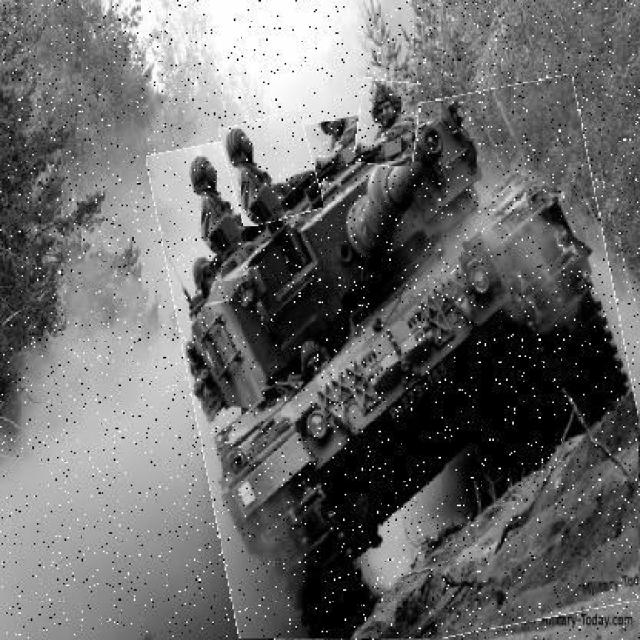Person: (226, 115, 321, 226), (358, 80, 419, 167)
Tank: (171, 92, 640, 639)
